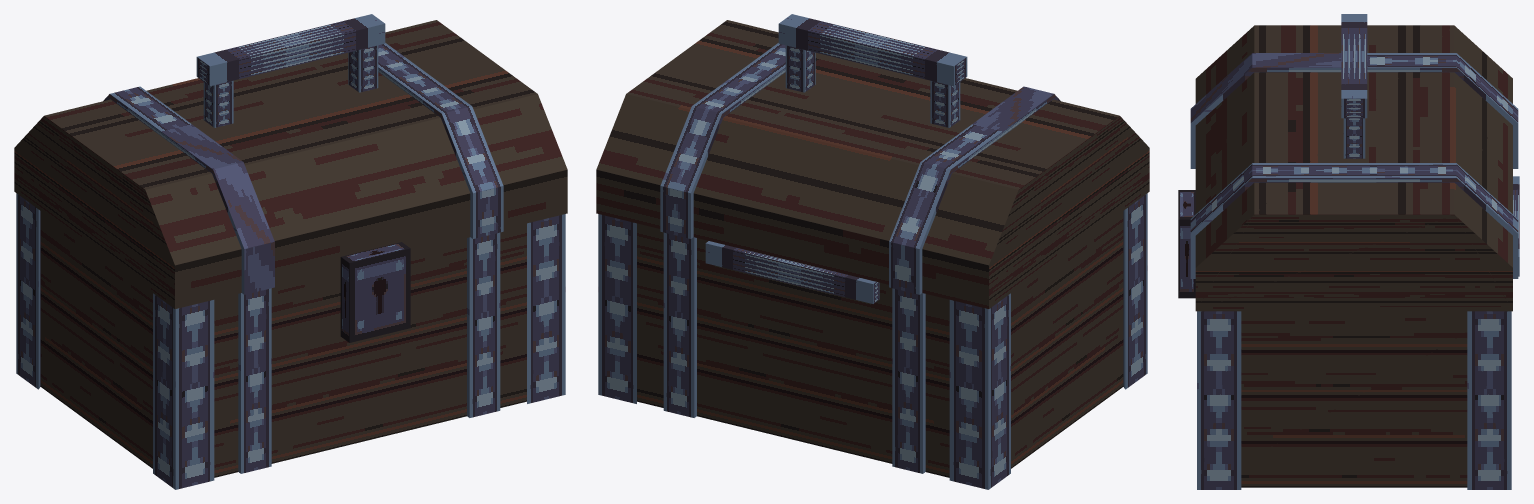
Rendered from chest_guard.glb.
3 views of the same model, side by side, from view 1: azimuth 30°, elevation 25°; view 2: azimuth 150°, elevation 25°; view 3: azimuth 270°, elevation 25° (orthographic).
Parts seen in each view (by area): view 1: lid, base, lock; view 2: lid, base; view 3: lid, base, lock.
Boxes of the visible parts, x1=… form: lid: x1=14, y1=14, x2=567, y2=308; base: x1=16, y1=193, x2=565, y2=489; lock: x1=340, y1=242, x2=410, y2=342; lid: x1=596, y1=14, x2=1149, y2=308; base: x1=598, y1=193, x2=1147, y2=489; lid: x1=1190, y1=14, x2=1518, y2=311; base: x1=1197, y1=176, x2=1519, y2=489; lock: x1=1178, y1=190, x2=1195, y2=298.
Size of the model in its own units: 1.03 by 0.862 by 0.785.
Materials: 1 (1 with a texture image).
